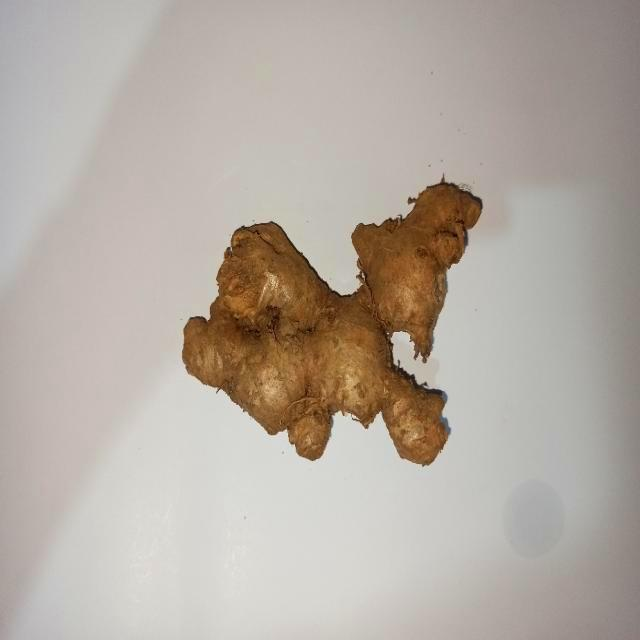ginger: (183, 179, 484, 467)
